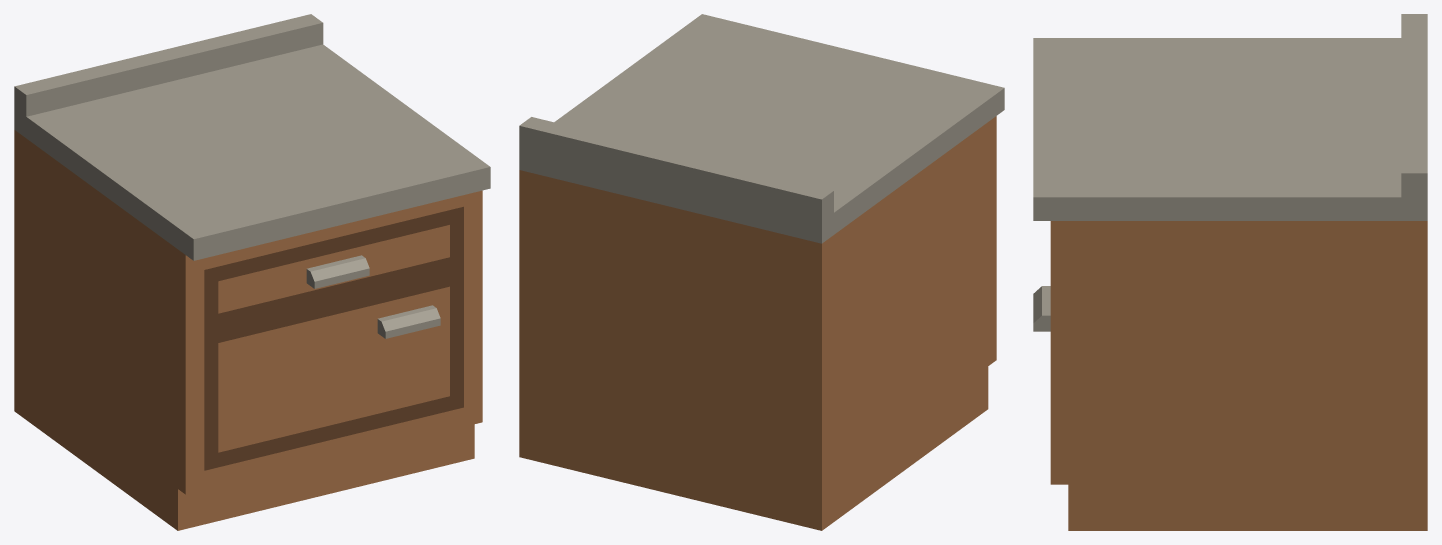
Rendered from kitchenCabinetDrawer.glb.
3 views of the same model, side by side, from view 1: azimuth 30°, elevation 25°; view 2: azimuth 150°, elevation 25°; view 3: azimuth 270°, elevation 25° (orthographic). The views are drawn at different scales.
Parts seen in each view (by area): view 1: Mesh_kitchenCabinetDrawer_1, Mesh_kitchenCabinetDrawer, Mesh_door, Mesh_door_1, Mesh_drawer, Mesh_drawer_1, Mesh_door_2, Mesh_drawer_2; view 2: Mesh_kitchenCabinetDrawer_1, Mesh_kitchenCabinetDrawer; view 3: Mesh_kitchenCabinetDrawer_1, Mesh_kitchenCabinetDrawer, Mesh_door_2.
Boxes of the visible parts, bbox=[...] form: Mesh_kitchenCabinetDrawer_1: bbox=[14, 130, 482, 530]; Mesh_kitchenCabinetDrawer: bbox=[14, 14, 490, 260]; Mesh_door: bbox=[218, 286, 449, 452]; Mesh_door_1: bbox=[204, 268, 463, 470]; Mesh_drawer: bbox=[204, 206, 463, 331]; Mesh_drawer_1: bbox=[218, 225, 449, 313]; Mesh_door_2: bbox=[377, 305, 440, 338]; Mesh_drawer_2: bbox=[306, 255, 369, 288]; Mesh_kitchenCabinetDrawer_1: bbox=[519, 116, 996, 530]; Mesh_kitchenCabinetDrawer: bbox=[519, 14, 1004, 243]; Mesh_kitchenCabinetDrawer_1: bbox=[1050, 221, 1427, 530]; Mesh_kitchenCabinetDrawer: bbox=[1033, 14, 1427, 220]; Mesh_door_2: bbox=[1033, 286, 1050, 331].
Size of the model in its own units: 0.86 by 0.9 by 0.9.
